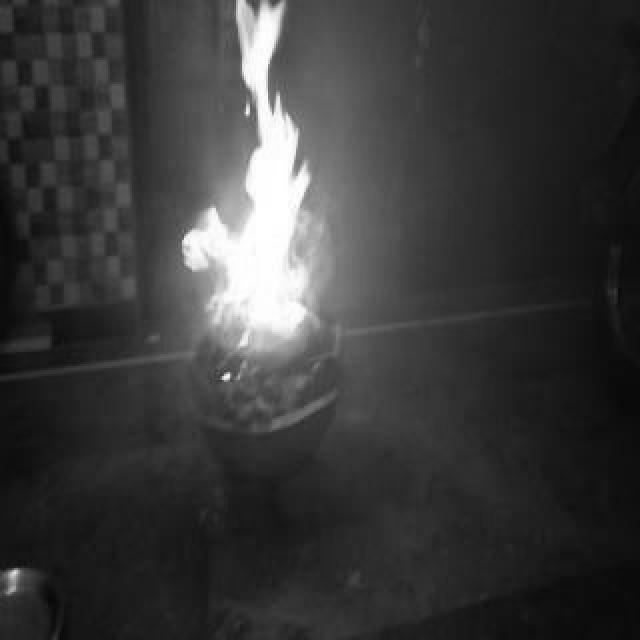Fire: (174, 4, 330, 356)
